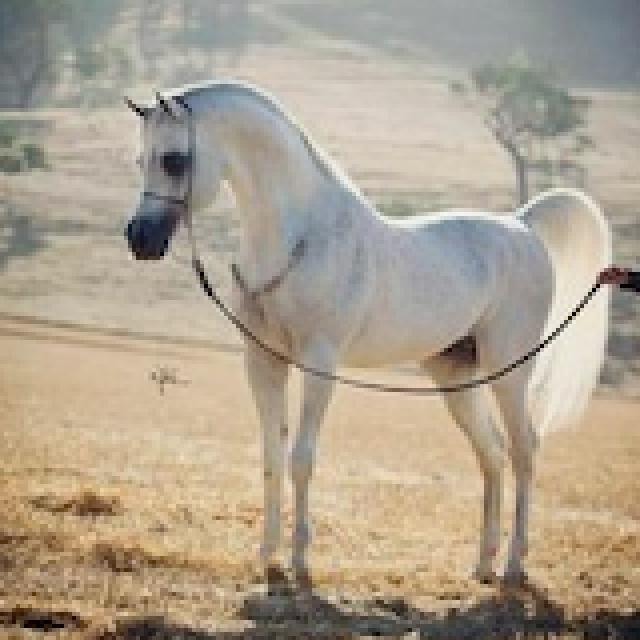Horse: (112, 72, 636, 604)
